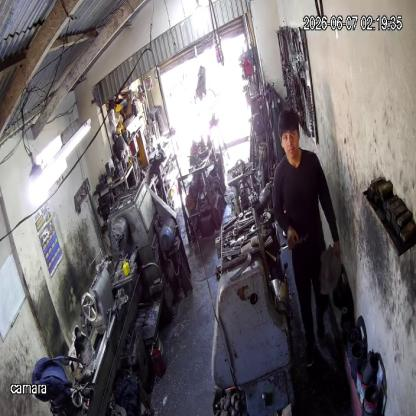sin_lentes: (280, 131, 298, 146)
